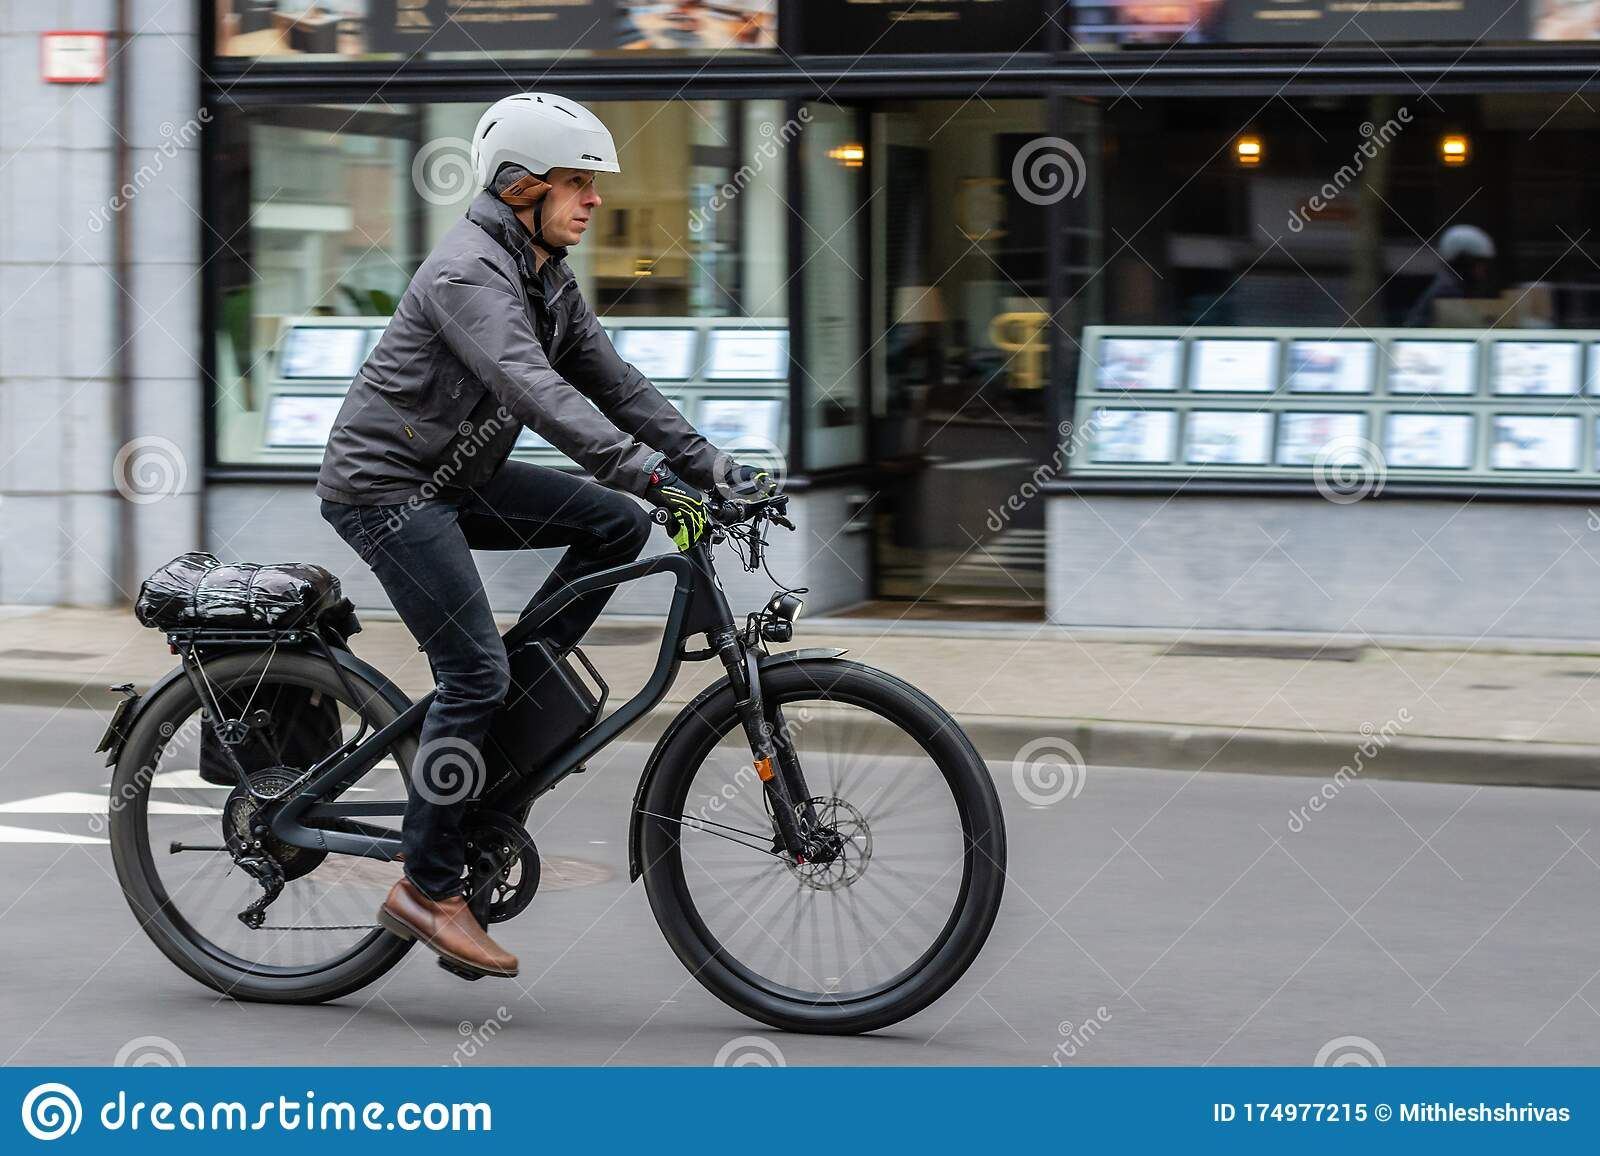helmet: (472, 93, 622, 248)
